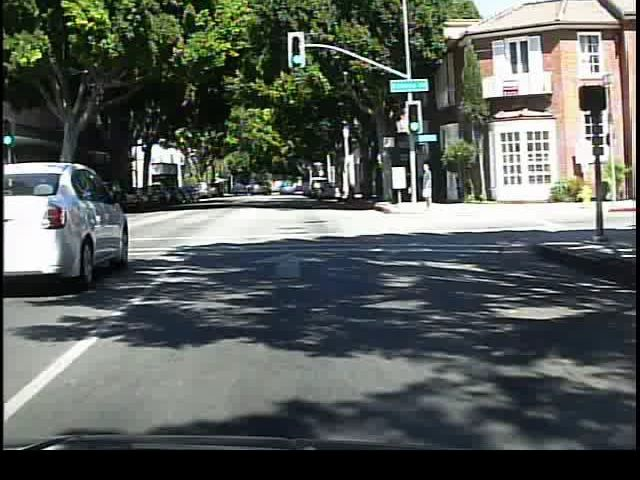person: (418, 158, 439, 214)
